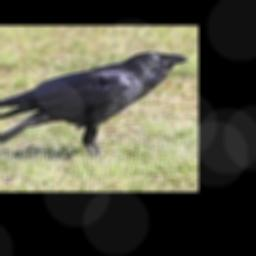Crow: (0, 51, 187, 158)
